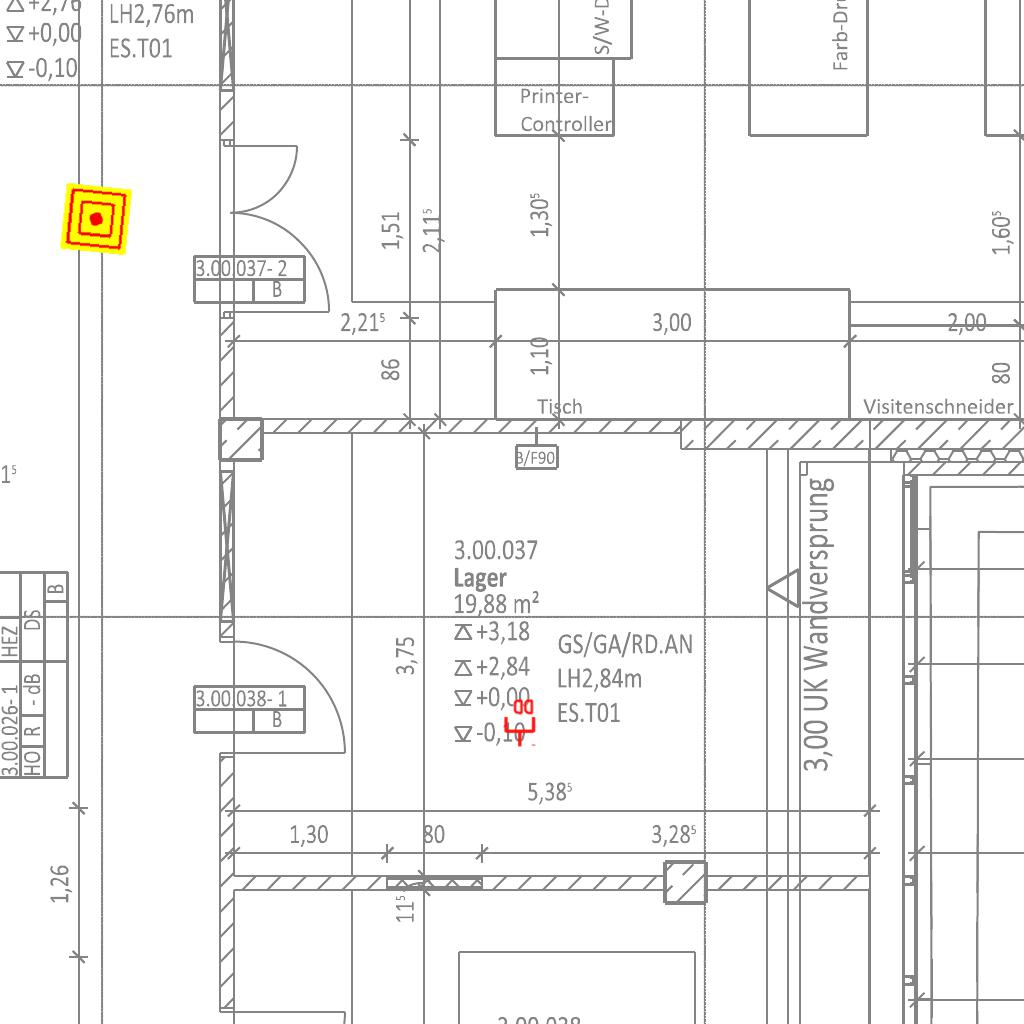Datenanschluss_zweifach: (502, 697, 536, 748)
NAM-Nichtautomatischer_Melder: (59, 182, 133, 256)
